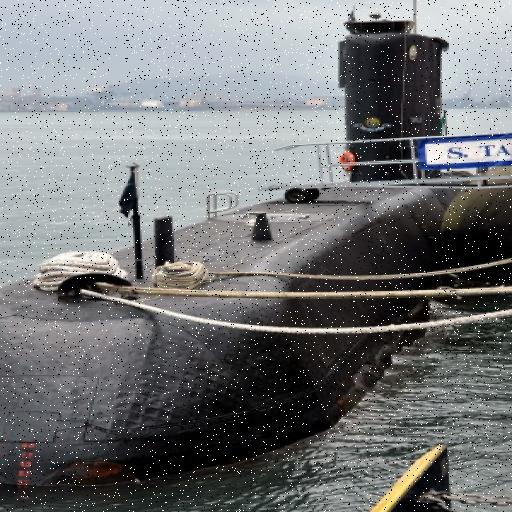submarine: (1, 1, 451, 482)
